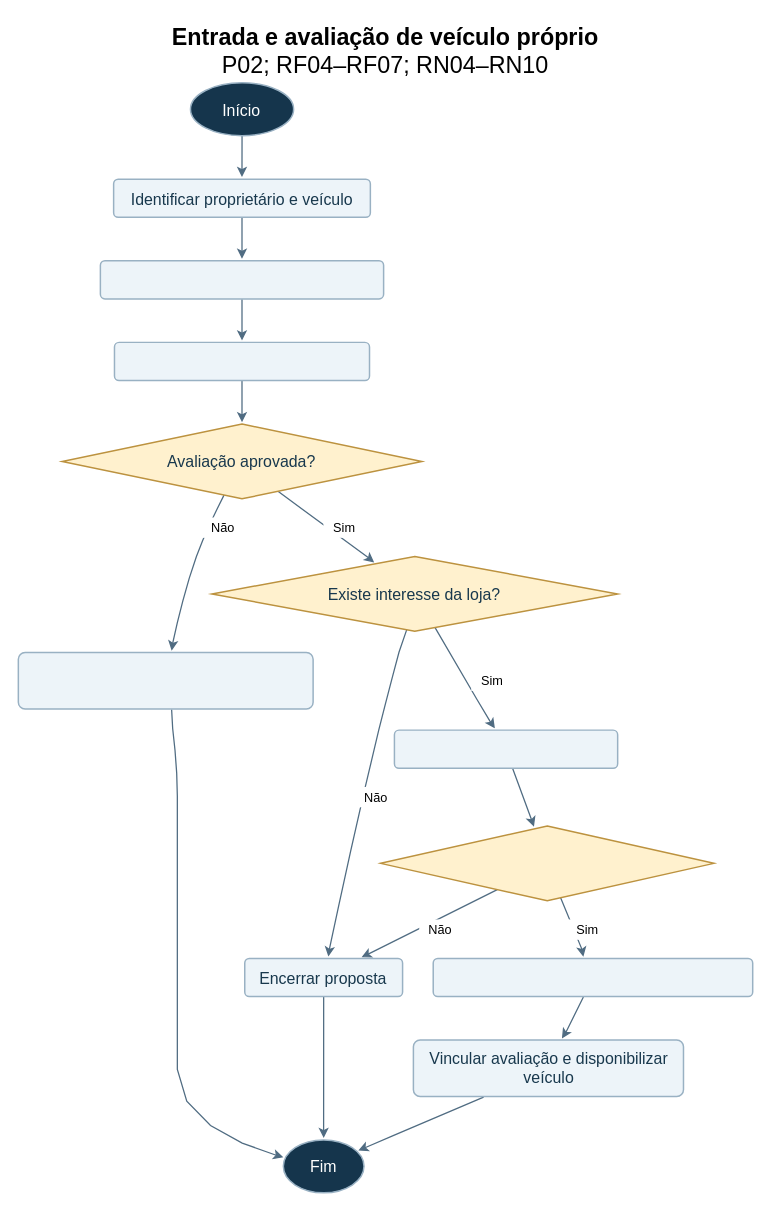
This 773x1213 diagram has some shape labels left out. The shapes that lost their labels are listed below. From the top down, each one's centre as x and y in pixels, then its label:
the point at 241,279: Cadastrar preliminarmente e avaliar
the point at 241,361: Analisar laudo quando aplicável
the point at 165,680: Registrar reprovação sem entrada no estoque
the point at 505,748: Negociar valor e condições
the point at 546,863: Compra acordada?
the point at 592,977: Formalizar compra e registrar ENTRADA
